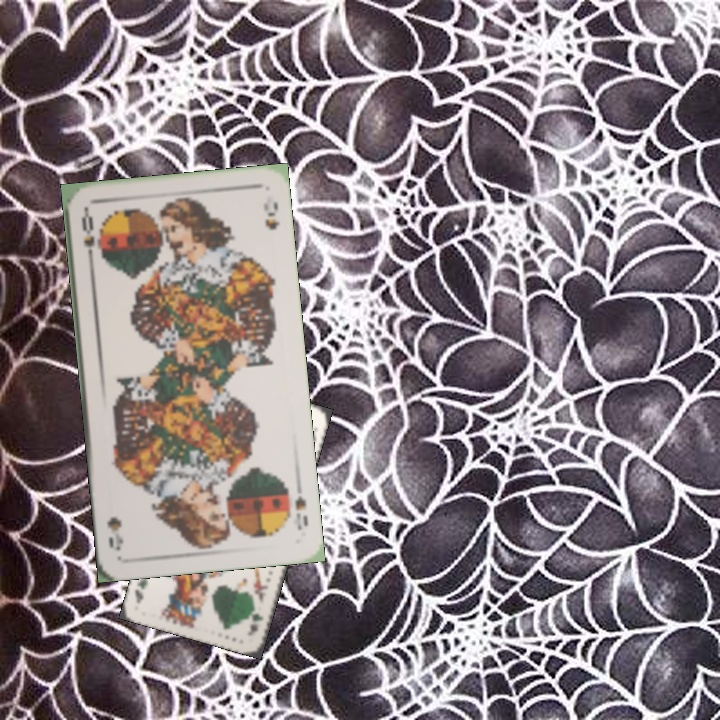GK: (243, 601, 265, 639)
SO: (77, 207, 98, 266), (291, 478, 311, 533)
